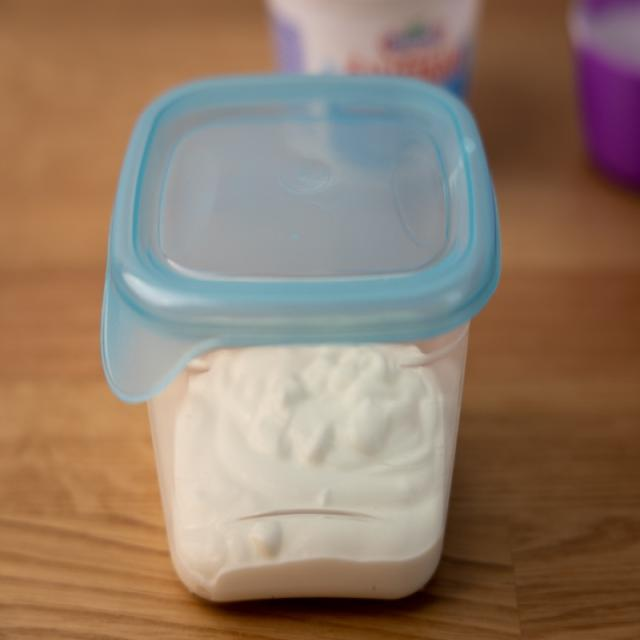plastic: (100, 71, 503, 608)
